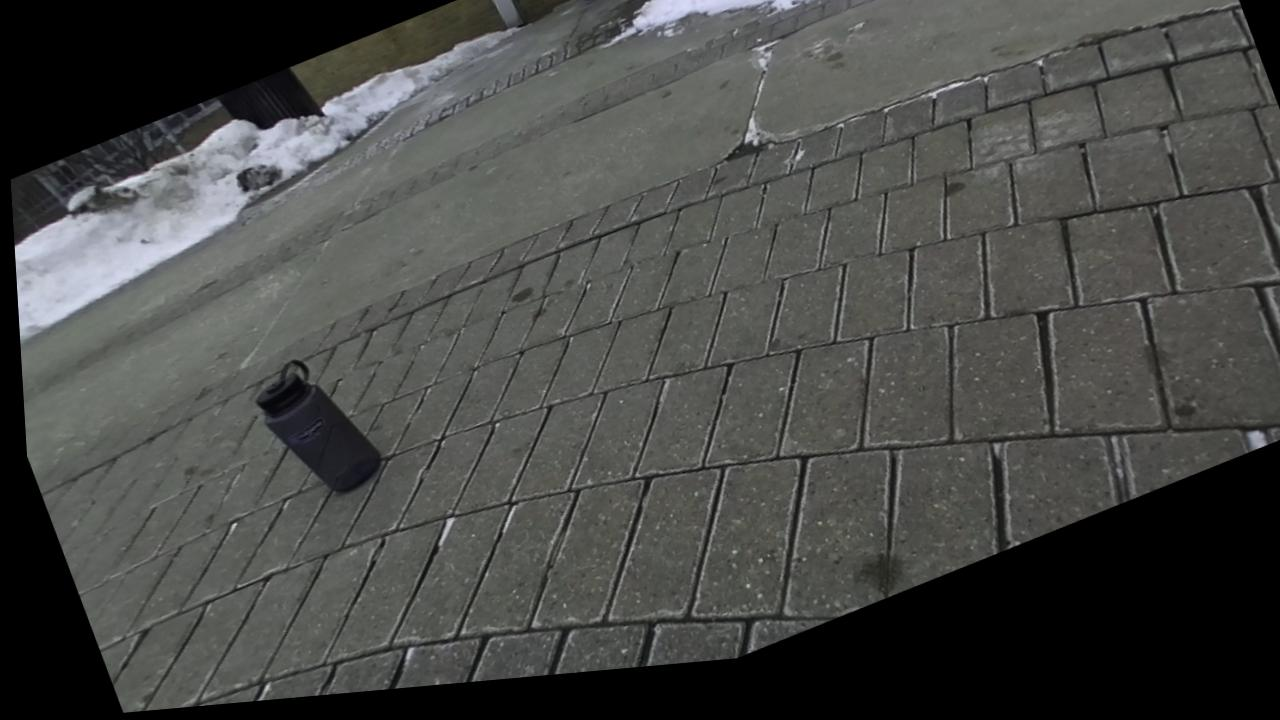bottle: (256, 361, 379, 491)
